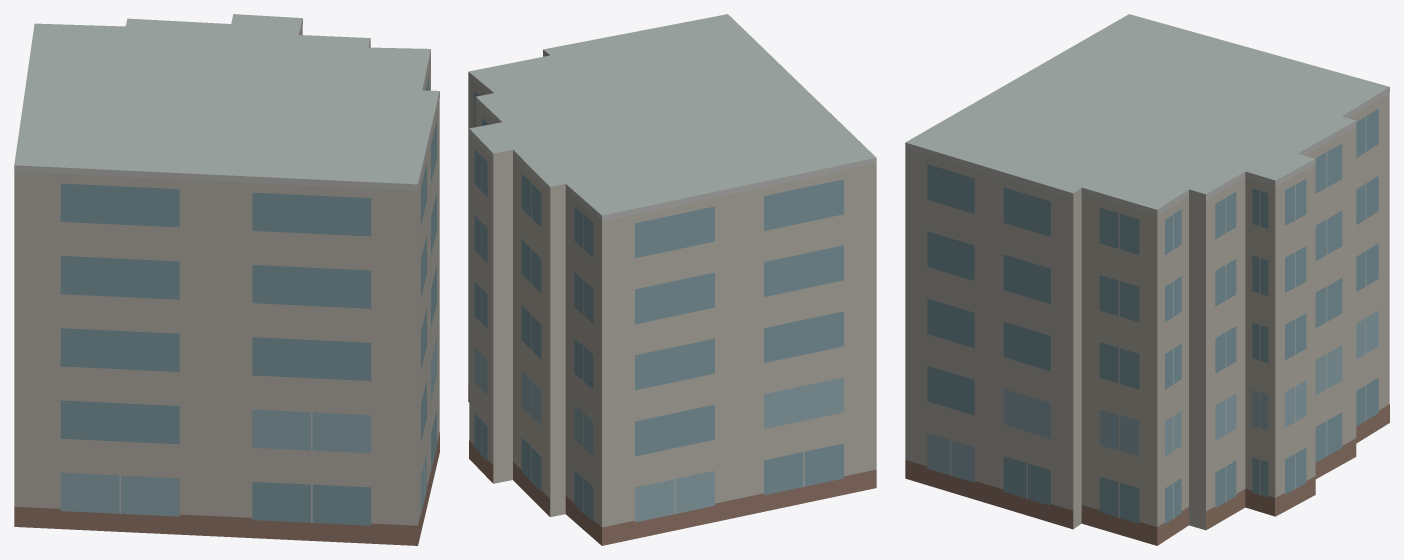
The model's file is survey-upis-32940780.glb.
3 renders of one model, left to right at view 1: azimuth 30°, elevation 25°; view 2: azimuth 150°, elevation 25°; view 3: azimuth 270°, elevation 25°, orthographic. The views are drawn at different scales.
Parts seen in each view (by area): view 1: survey-upis-32940780.tmp; view 2: survey-upis-32940780.tmp; view 3: survey-upis-32940780.tmp.
Part boxes in pixels (x1,y1,x2,y2): survey-upis-32940780.tmp: [14, 14, 439, 545]; survey-upis-32940780.tmp: [468, 14, 876, 545]; survey-upis-32940780.tmp: [905, 14, 1389, 545].
Size of the model in its own units: 17.14 by 13.7 by 17.91.
